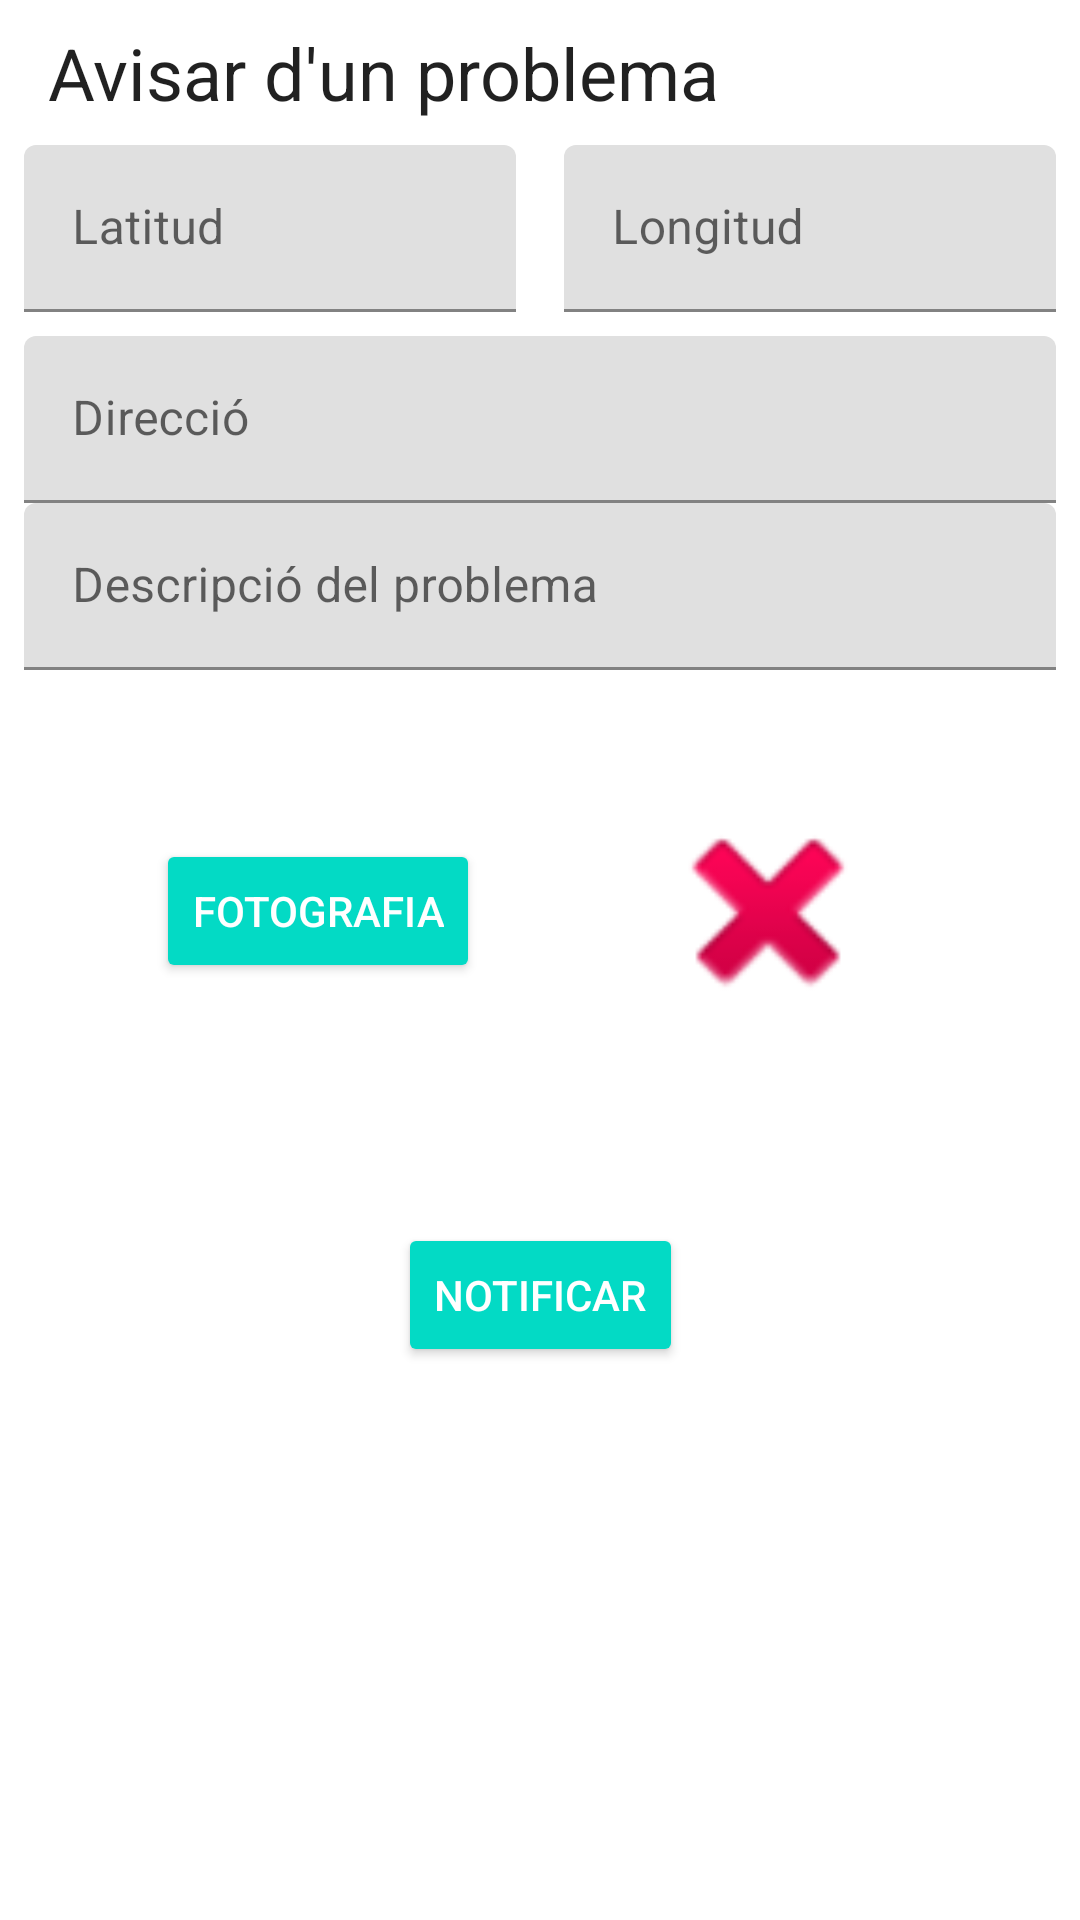

Named icons in this screenshot (1080w x 1920h) and their centers, [x,y]:
delete: [768,912]
